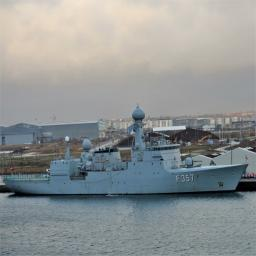Fragata: (5, 102, 250, 200)
